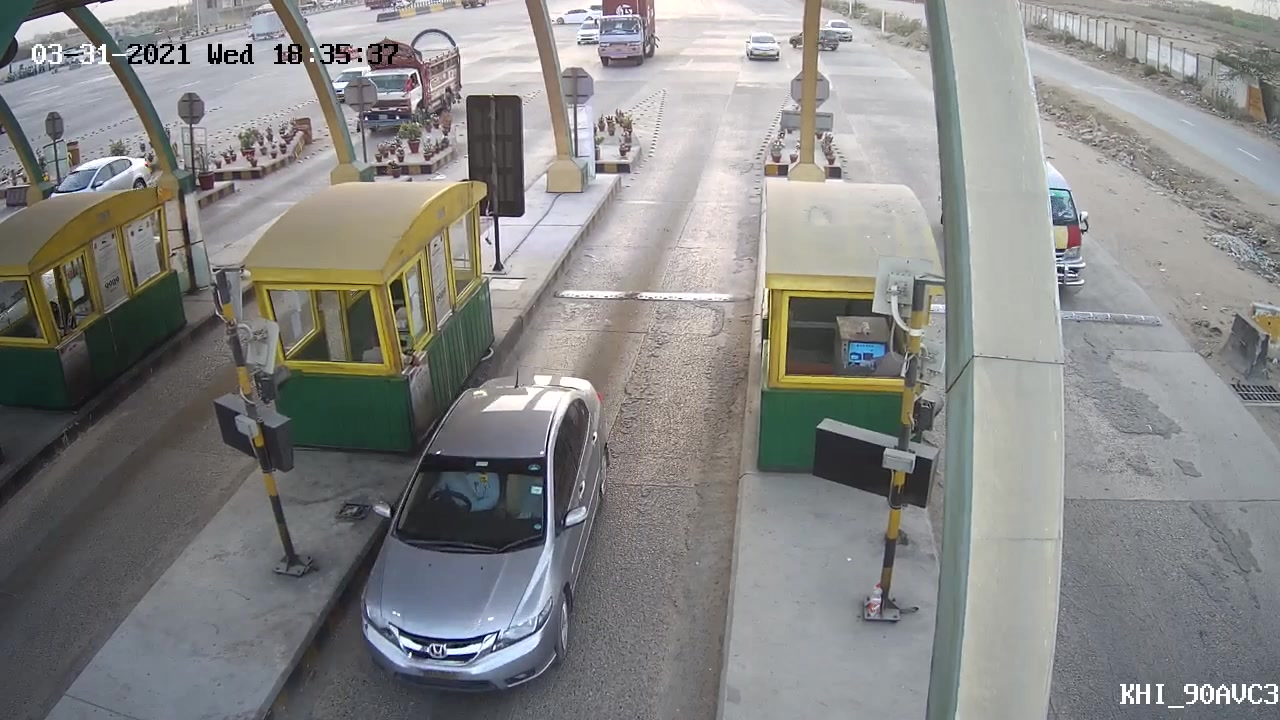F1: (354, 367, 621, 698)
